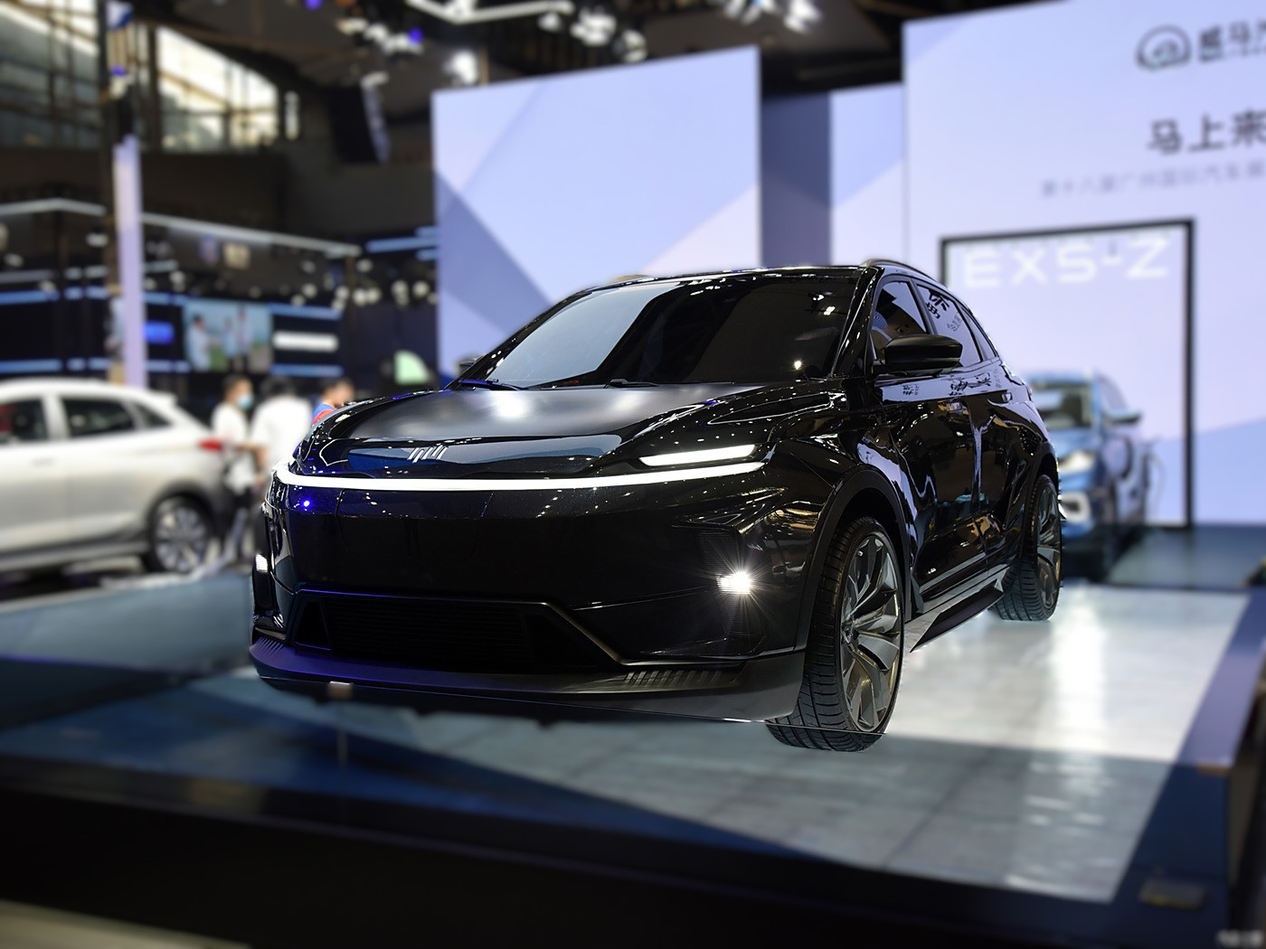WELTMEISTER: (409, 446, 447, 462)
